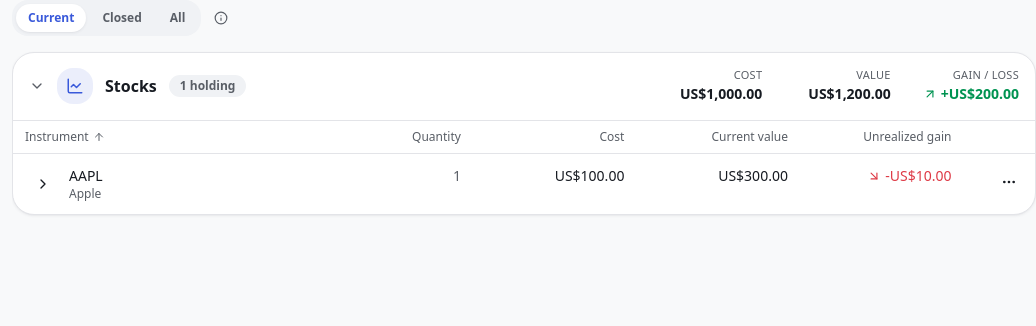
HoldingGroupsList › keeps closed account positions reachable without making them current sell candidates
Expected: the table with test id "holdings-table" shows "Apple", [69,184,101,202]
Expected: the table with test id "holdings-table" does not show "Closed Fund", [13,120,1035,214]
Click the button "Closed": (122, 18) [90,4,154,32]
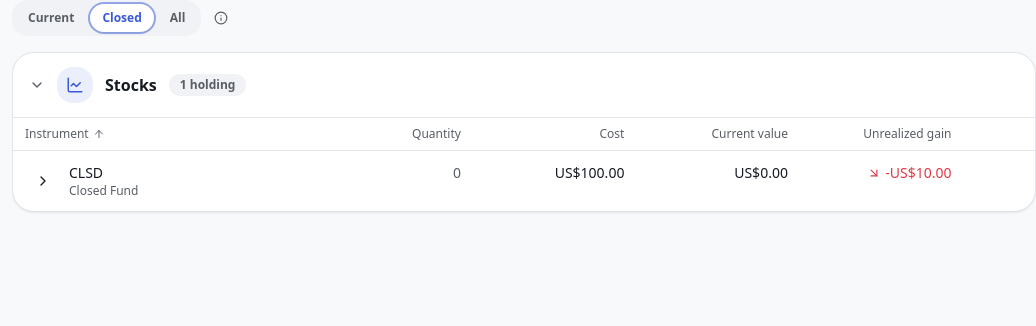
Expected: the table with test id "holdings-table" shows "Closed Fund", [69,182,138,199]
Expected: the table with test id "holdings-table" no longer shows "Apple", [13,118,1035,211]
Click the button "All": (178, 18) [158,4,197,32]
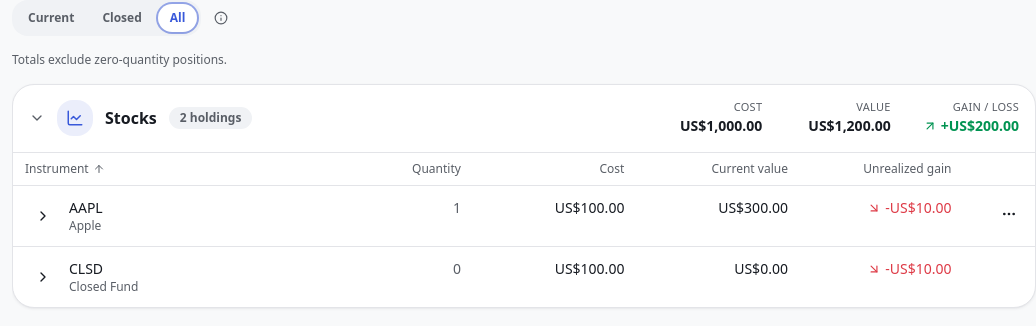
Expected: the table with test id "holdings-table" shows "Closed Fund", [69,278,138,294]
Expected: the table with test id "holdings-table" shows "Apple", [69,216,101,234]
Expected: the text "Totals exclude zero-quantity positions." is shown, [12,51,227,68]
